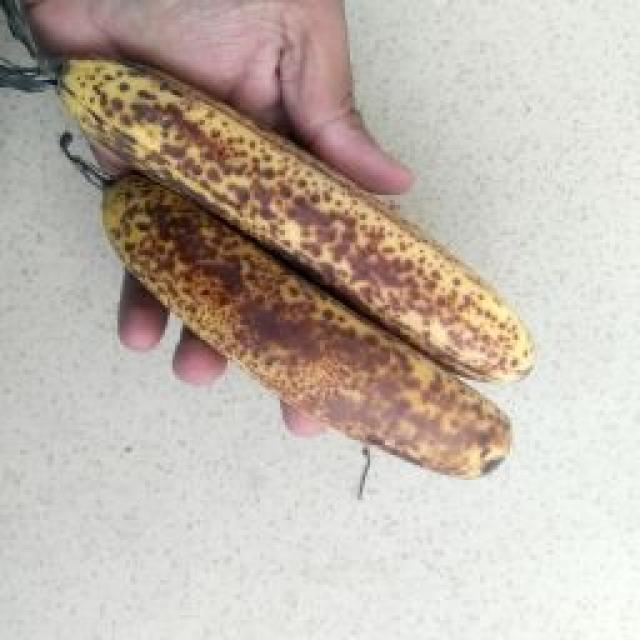banana: (75, 108, 511, 568)
